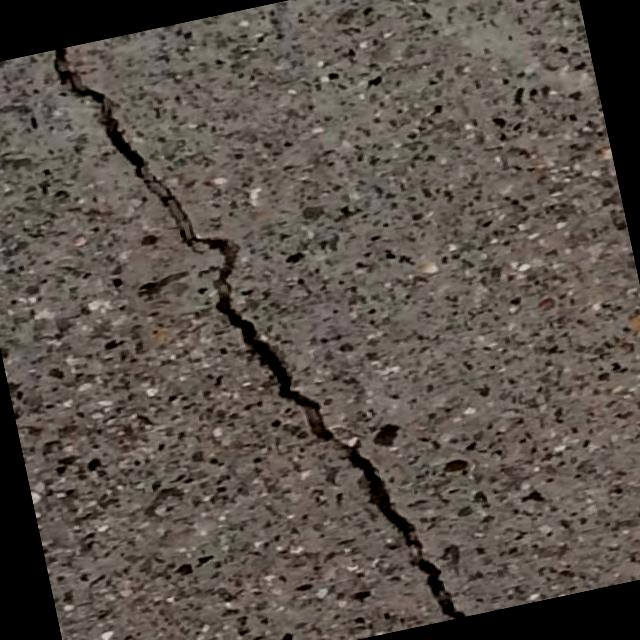crack: (43, 0, 464, 640)
